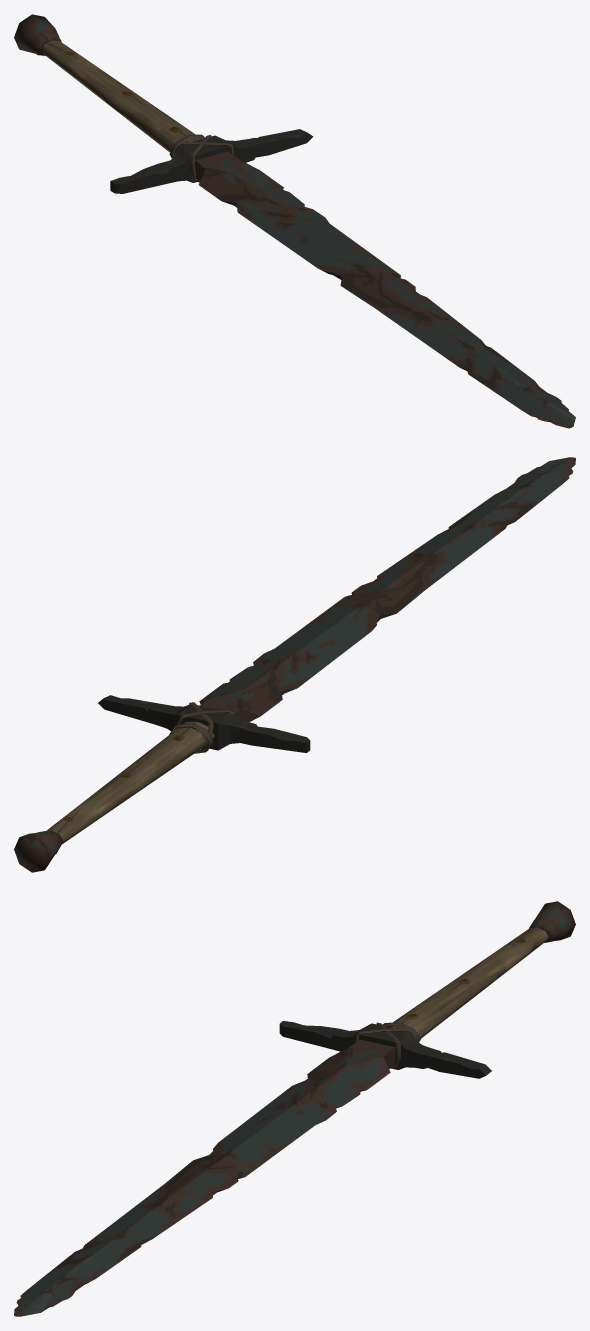
The model's file is Weapon_Lsword_020.glb.
3 views of the same model, one above another, from view 1: azimuth 30°, elevation 25°; view 2: azimuth 150°, elevation 25°; view 3: azimuth 330°, elevation 25° (orthographic).
Parts seen in each view (by area): view 1: Weapon_Lsword_020; view 2: Weapon_Lsword_020; view 3: Weapon_Lsword_020.
Part boxes in pixels (<box>): Weapon_Lsword_020: <box>14,14,575,428</box>; Weapon_Lsword_020: <box>14,457,575,872</box>; Weapon_Lsword_020: <box>14,901,575,1316</box>.
Bounding box in the file's own units: 0.4376 × 0.0777 × 2.02.
Materials: 1 (1 with a texture image).
